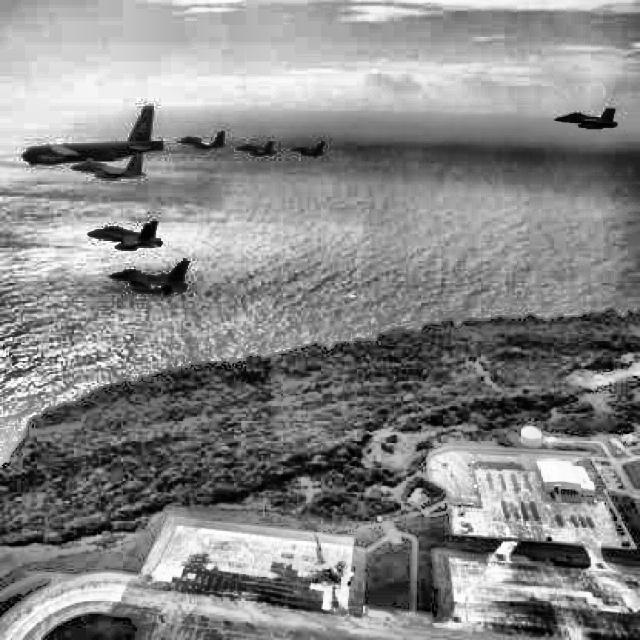B52: (22, 105, 165, 167)
C17: (303, 529, 346, 583)
F15: (70, 152, 148, 180), (177, 131, 226, 151)
F16: (108, 258, 190, 296), (292, 140, 326, 158)
F18: (87, 219, 162, 252), (554, 107, 618, 130), (236, 140, 276, 157)
